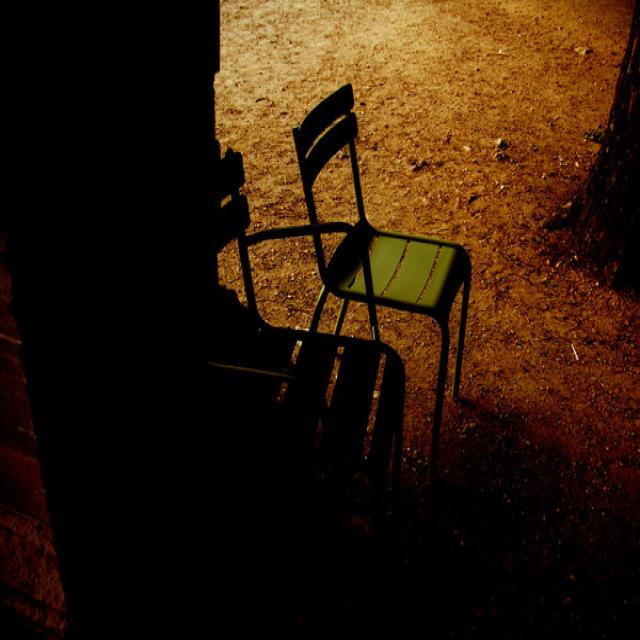chair: (164, 123, 420, 640), (309, 73, 508, 418)
